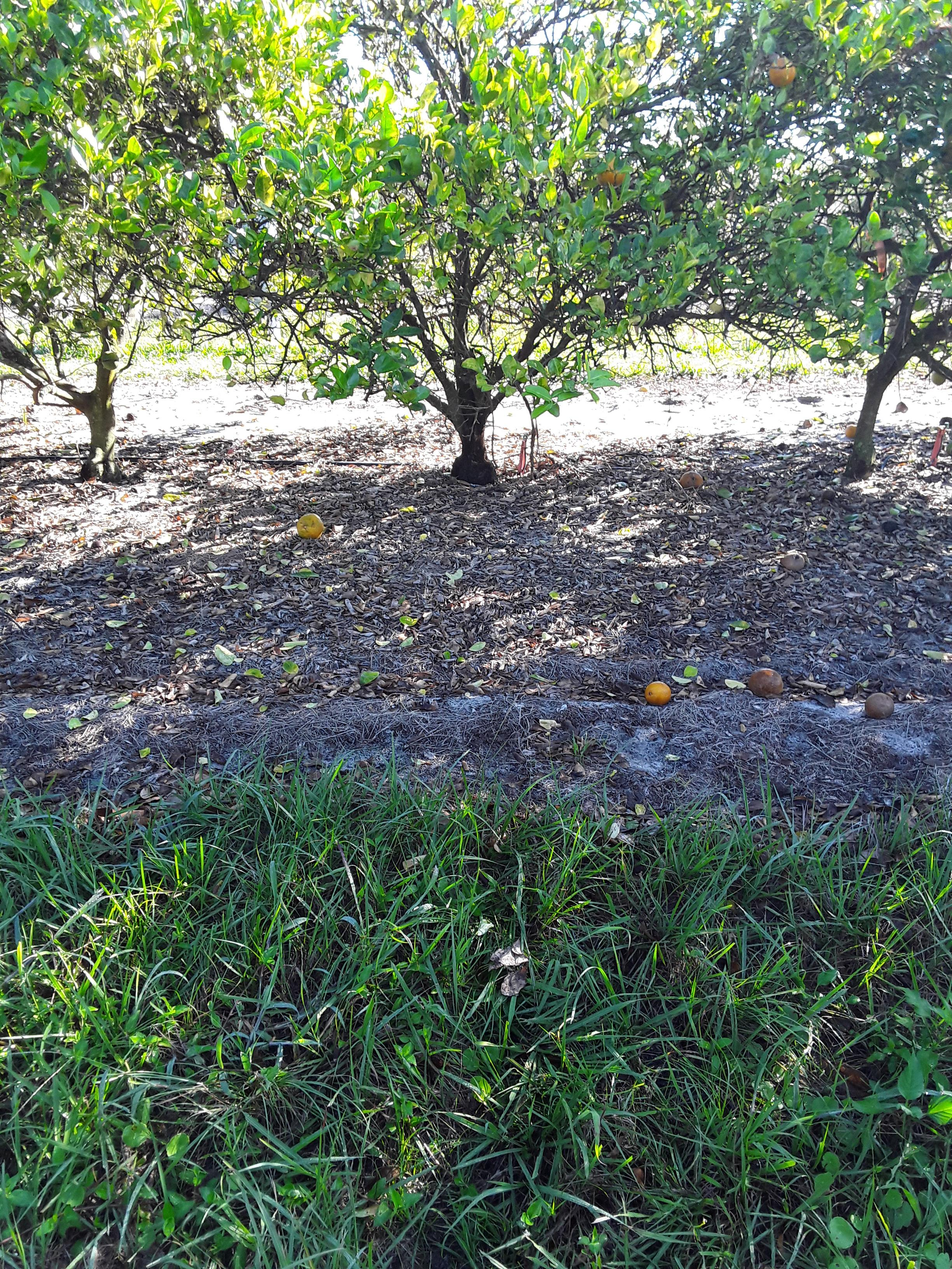fruit_on_ground: (592, 147, 630, 191), (771, 56, 798, 90), (707, 288, 727, 319), (100, 346, 122, 373), (928, 365, 950, 387), (891, 399, 912, 419)
fruit_on_tree: (747, 666, 787, 700), (863, 689, 896, 723), (642, 679, 676, 709), (779, 549, 808, 577), (299, 511, 324, 542), (678, 470, 708, 491), (880, 519, 903, 536), (822, 487, 839, 503), (844, 425, 857, 442), (802, 417, 815, 432), (73, 402, 85, 418), (124, 410, 137, 424)
